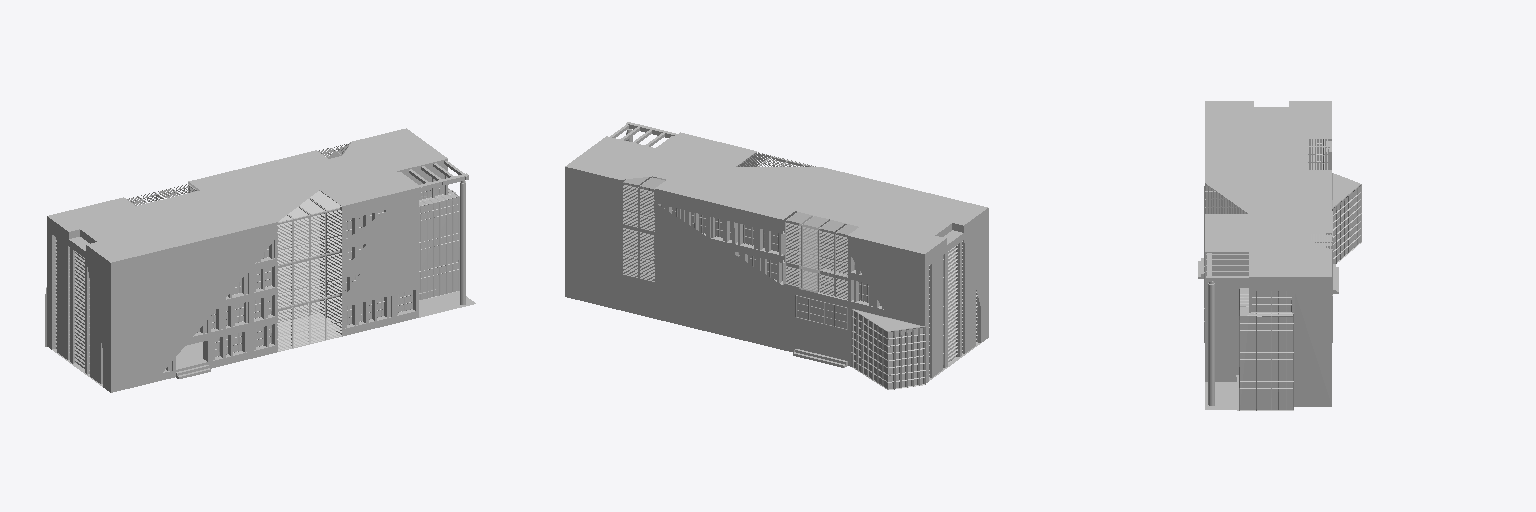
Rendered from BuildC_simplified.obj.
3 renders of one model, left to right at view 1: azimuth 30°, elevation 25°; view 2: azimuth 150°, elevation 25°; view 3: azimuth 270°, elevation 25°, orthographic.
Visible parts, largest first — view 1: Cube; view 2: Cube; view 3: Cube.
Boxes of the visible parts, <box> form: Cube: <box>45,128,475,392</box>; Cube: <box>565,122,988,389</box>; Cube: <box>1198,101,1361,410</box>.
Size of the model in its own units: 133 by 45.18 by 51.16.